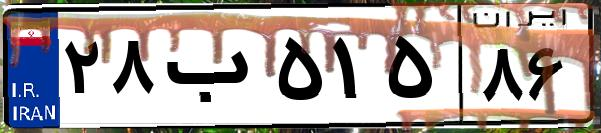1: (330, 28, 385, 110)
2: (57, 26, 110, 100)
5: (270, 28, 330, 110), (385, 28, 445, 110)
6: (525, 38, 570, 115)
8: (475, 38, 525, 113), (110, 28, 158, 98)
ب: (158, 20, 270, 120)
